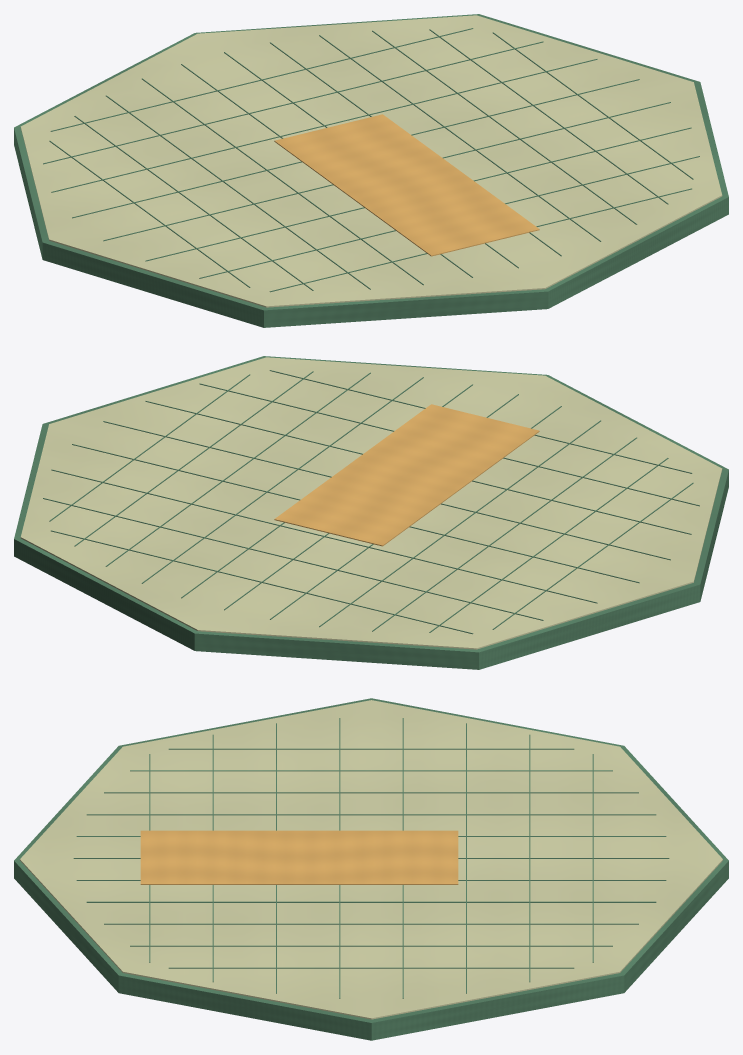
Rendered from atlas100-s001-a07.glb.
The picture shows the model from 3 angles, top to bottom: view 1: azimuth 30°, elevation 25°; view 2: azimuth 150°, elevation 25°; view 3: azimuth 270°, elevation 25°; orthographic projection.
Parts seen in each view (by area): view 1: atlas100-s001-a07:part-001, atlas100-s001-a07:part-000, atlas100-s001-a07:part-021, atlas100-s001-a07:part-015, atlas100-s001-a07:part-014, atlas100-s001-a07:part-016, atlas100-s001-a07:part-017, atlas100-s001-a07:part-018, atlas100-s001-a07:part-013, atlas100-s001-a07:part-019, atlas100-s001-a07:part-005, atlas100-s001-a07:part-009 (+3 smaller); view 2: atlas100-s001-a07:part-001, atlas100-s001-a07:part-000, atlas100-s001-a07:part-021, atlas100-s001-a07:part-015, atlas100-s001-a07:part-014, atlas100-s001-a07:part-017, atlas100-s001-a07:part-016, atlas100-s001-a07:part-018, atlas100-s001-a07:part-013, atlas100-s001-a07:part-019, atlas100-s001-a07:part-009, atlas100-s001-a07:part-005 (+3 smaller); view 3: atlas100-s001-a07:part-001, atlas100-s001-a07:part-000, atlas100-s001-a07:part-021, atlas100-s001-a07:part-009, atlas100-s001-a07:part-005, atlas100-s001-a07:part-004, atlas100-s001-a07:part-010, atlas100-s001-a07:part-011, atlas100-s001-a07:part-003, atlas100-s001-a07:part-002, atlas100-s001-a07:part-012.
Boxes of the visible parts, x1,y1,x2,y2 form: atlas100-s001-a07:part-001: (20, 15, 722, 307); atlas100-s001-a07:part-000: (14, 14, 728, 327); atlas100-s001-a07:part-021: (274, 114, 539, 256); atlas100-s001-a07:part-015: (51, 59, 597, 192); atlas100-s001-a07:part-014: (43, 41, 543, 164); atlas100-s001-a07:part-016: (72, 79, 639, 218); atlas100-s001-a07:part-017: (103, 102, 670, 241); atlas100-s001-a07:part-018: (145, 127, 691, 261); atlas100-s001-a07:part-013: (50, 28, 473, 131); atlas100-s001-a07:part-019: (199, 156, 699, 278); atlas100-s001-a07:part-005: (142, 78, 423, 285); atlas100-s001-a07:part-009: (319, 35, 601, 241); atlas100-s001-a07:part-001: (20, 357, 722, 649); atlas100-s001-a07:part-000: (14, 356, 728, 669); atlas100-s001-a07:part-021: (274, 404, 539, 546); atlas100-s001-a07:part-015: (51, 469, 597, 603); atlas100-s001-a07:part-014: (43, 498, 543, 620); atlas100-s001-a07:part-017: (103, 421, 670, 560); atlas100-s001-a07:part-016: (72, 444, 639, 583); atlas100-s001-a07:part-018: (145, 401, 691, 534); atlas100-s001-a07:part-013: (51, 530, 473, 634); atlas100-s001-a07:part-019: (199, 383, 699, 506); atlas100-s001-a07:part-009: (141, 377, 423, 583); atlas100-s001-a07:part-005: (319, 420, 600, 627); atlas100-s001-a07:part-001: (20, 700, 722, 1019); atlas100-s001-a07:part-000: (14, 698, 728, 1040); atlas100-s001-a07:part-021: (140, 830, 458, 884); atlas100-s001-a07:part-009: (86, 901, 656, 902); atlas100-s001-a07:part-005: (86, 814, 656, 815); atlas100-s001-a07:part-004: (104, 792, 638, 793); atlas100-s001-a07:part-010: (104, 923, 638, 924); atlas100-s001-a07:part-011: (130, 945, 612, 946); atlas100-s001-a07:part-003: (130, 770, 612, 771); atlas100-s001-a07:part-002: (168, 748, 574, 749); atlas100-s001-a07:part-012: (168, 967, 574, 968).
Bounding box in the file's own units: 13.35 × 0.404 × 12.42.
3 materials, 3 textured.
